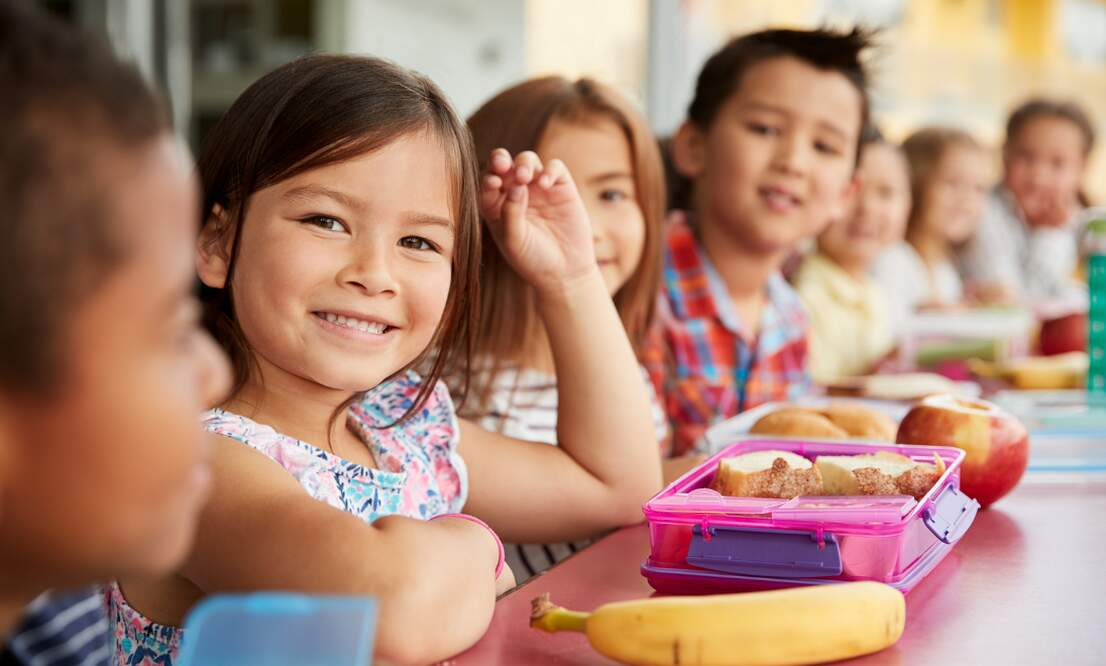human: (102, 54, 682, 666), (651, 16, 897, 459), (446, 69, 680, 461)
